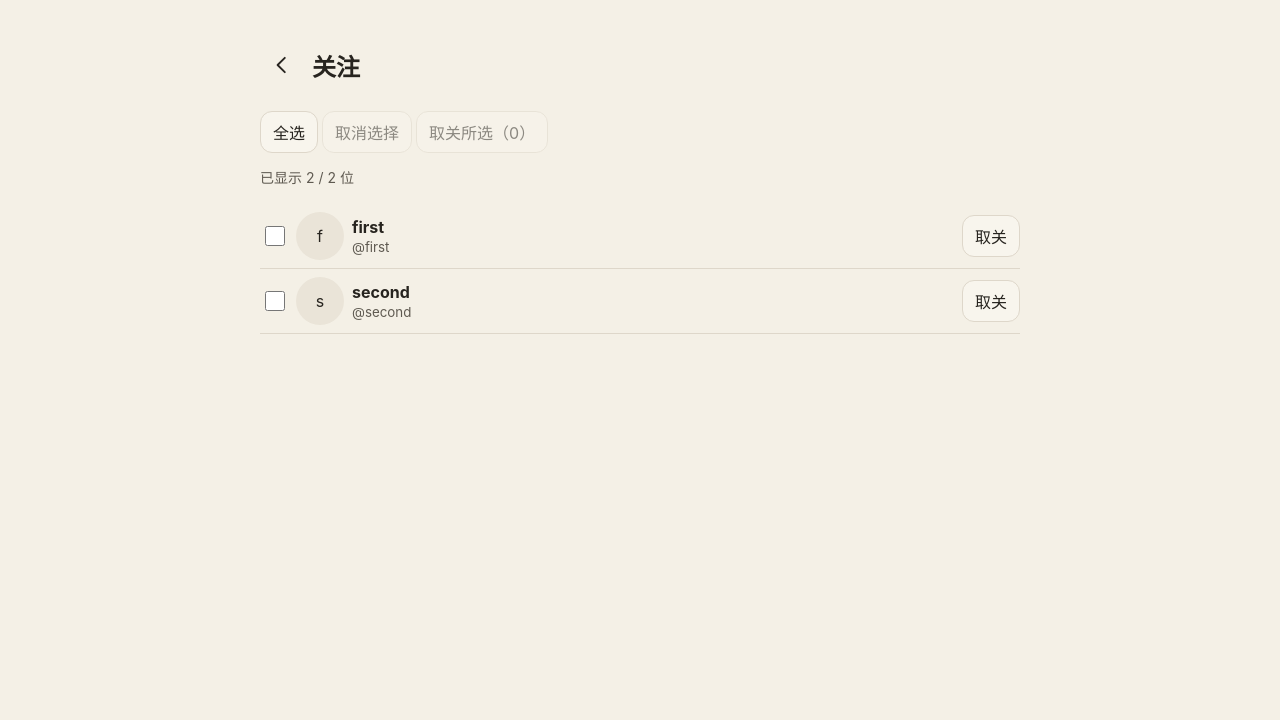
records per-user results and keeps failed selections for retry
The image size is (1280, 720).
Click the button "全选" at (289, 132), box [260, 111, 318, 153]
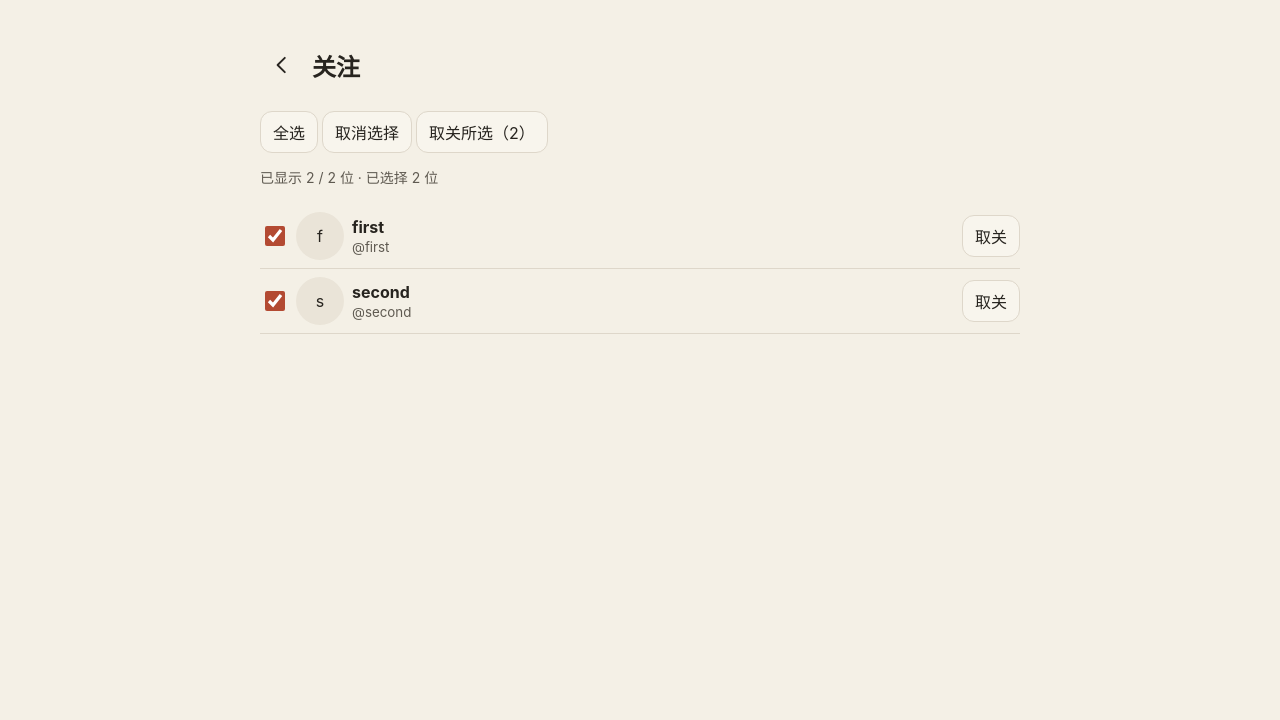
Click the button "取关所选（2）" at (482, 132), box [416, 111, 548, 153]
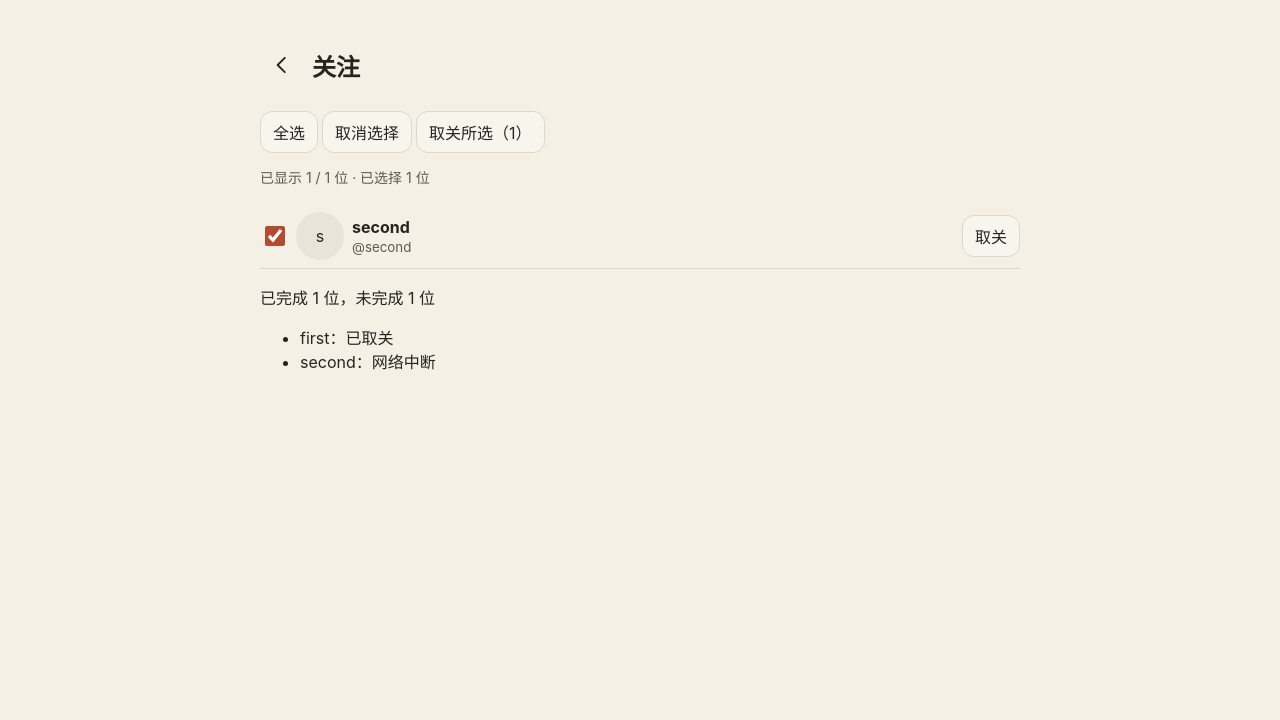
Now the list named "操作结果" shows "first：已取关", box [300, 328, 436, 372]
Now the list named "操作结果" shows "second：网络中断", box [300, 328, 436, 372]
Now the number of checkboxes is 1, box [264, 226, 284, 246]
